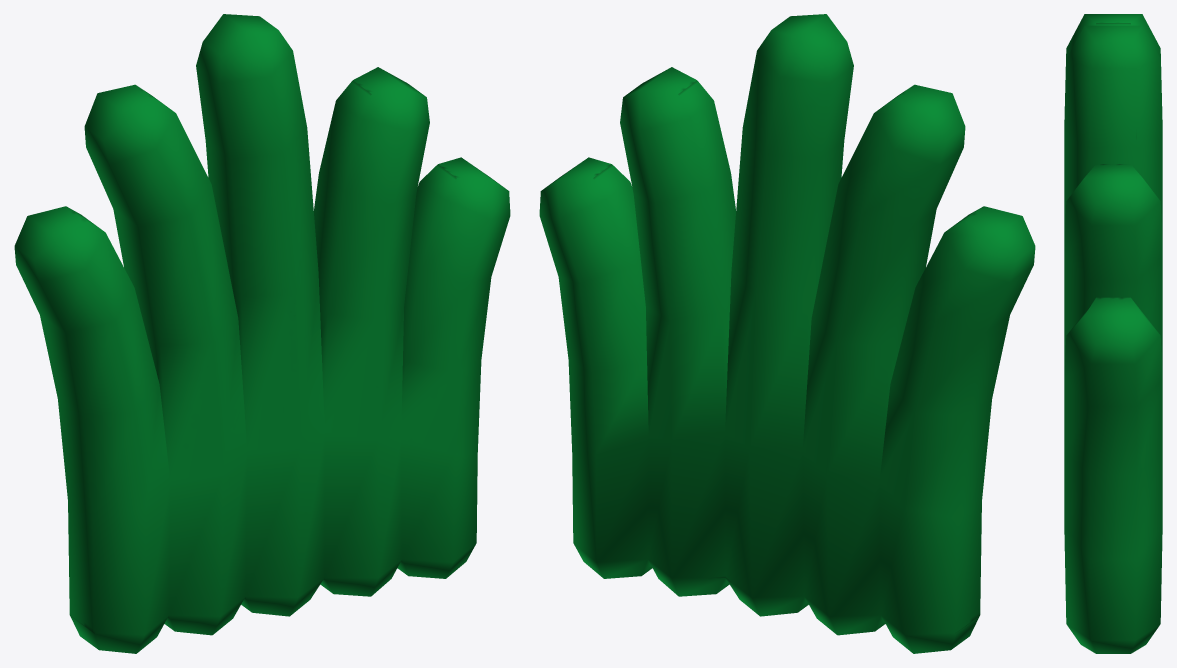
The model's file is Grass.fbx.
The picture shows the model from 3 angles, left to right: view 1: azimuth 30°, elevation 25°; view 2: azimuth 150°, elevation 25°; view 3: azimuth 270°, elevation 25°; orthographic projection. The views are drawn at different scales.
Visible parts, largest first — view 1: Grass; view 2: Grass; view 3: Grass.
Part boxes in pixels (x1,y1,x2,y2): Grass: (14,14,510,653); Grass: (539,14,1035,653); Grass: (1064,14,1162,653).
Size of the model in its own units: 66.03 by 77.76 by 12.99.
